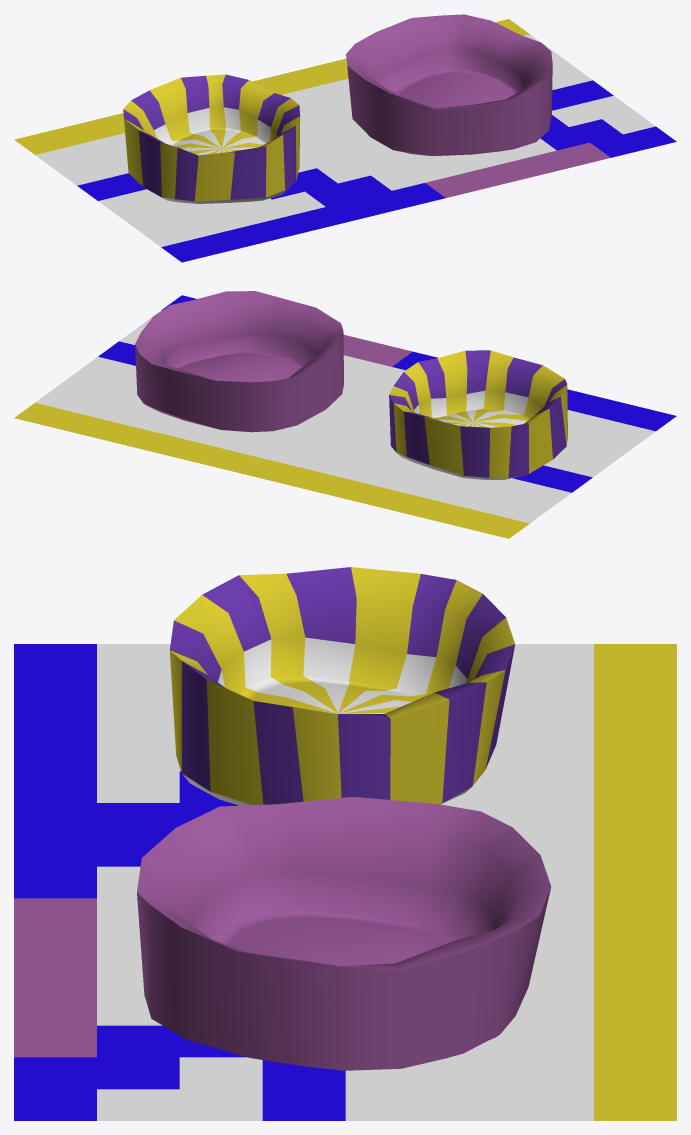
The model's file is bowls.fbx.
3 renders of one model, top to bottom at view 1: azimuth 30°, elevation 25°; view 2: azimuth 150°, elevation 25°; view 3: azimuth 270°, elevation 25°, orthographic. The views are drawn at different scales.
Parts seen in each view (by area): view 1: pPlane1, pCylinder1, pCylinder2; view 2: pPlane1, pCylinder1, pCylinder2; view 3: pPlane1, pCylinder1, pCylinder2.
Boxes of the visible parts, <box> form: pPlane1: <box>14,19,676,262</box>; pCylinder1: <box>346,14,552,156</box>; pCylinder2: <box>123,74,300,203</box>; pPlane1: <box>14,295,676,538</box>; pCylinder1: <box>135,291,343,432</box>; pCylinder2: <box>389,350,567,479</box>; pPlane1: <box>14,644,676,1120</box>; pCylinder1: <box>137,797,551,1070</box>; pCylinder2: <box>169,567,515,805</box>.
Size of the model in its own units: 6.68 by 0.9086 by 3.93.
